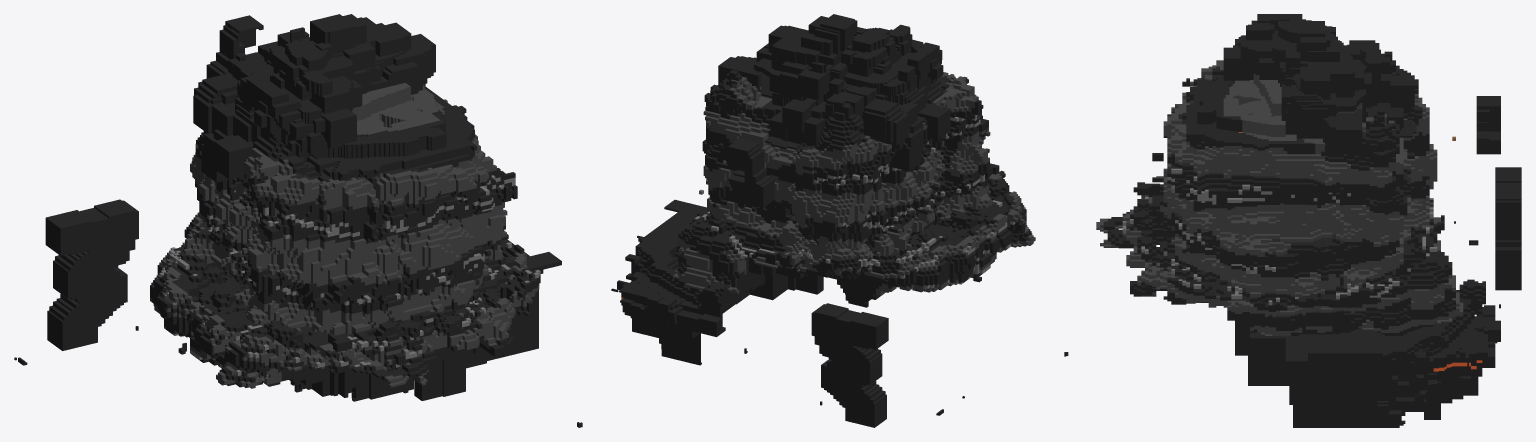
File: Lava_stuff-6.obj
3 renders of one model, left to right at view 1: azimuth 30°, elevation 25°; view 2: azimuth 150°, elevation 25°; view 3: azimuth 270°, elevation 25°, orthographic. The views are drawn at different scales.
Bounding box in the file's own units: 24.1 × 18.7 × 24.4.
Materials: 1 (1 with a texture image).
